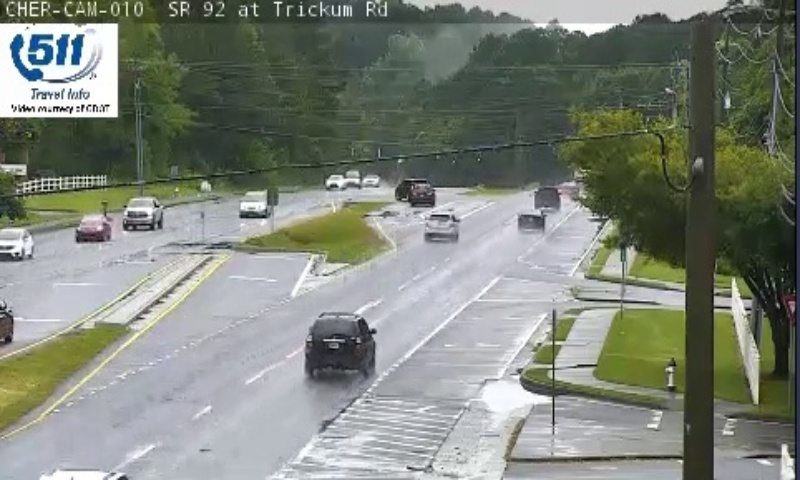car: (303, 313, 375, 373), (424, 211, 458, 238), (518, 209, 544, 230)
